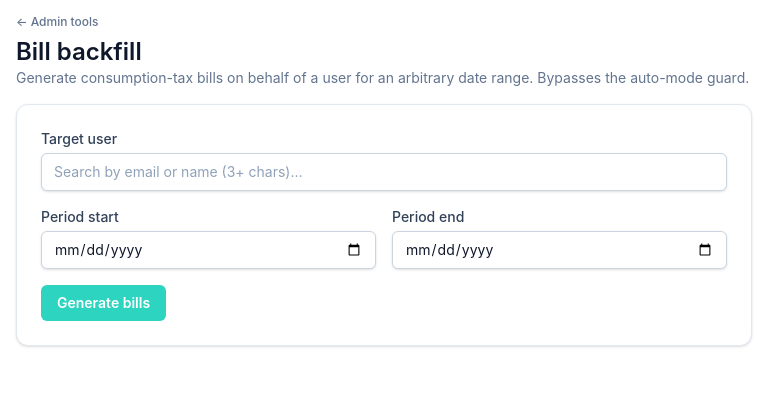
Scenario: AdminBillBackfillPage › rejects an end date that is today or later
The image size is (769, 396).
Type "jane" into the search field named "search target user by email or name" at coordinates (384, 172), box 41,153 -> 727,191
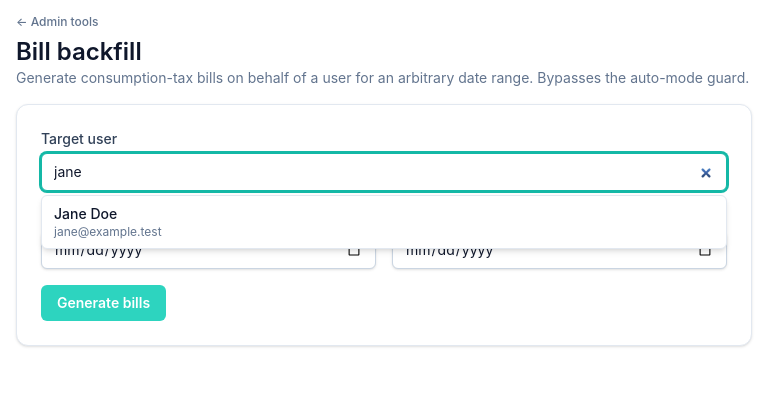
Click the option "Jane Doe jane@example.test" at coordinates (86, 214), box 42,196 -> 726,248
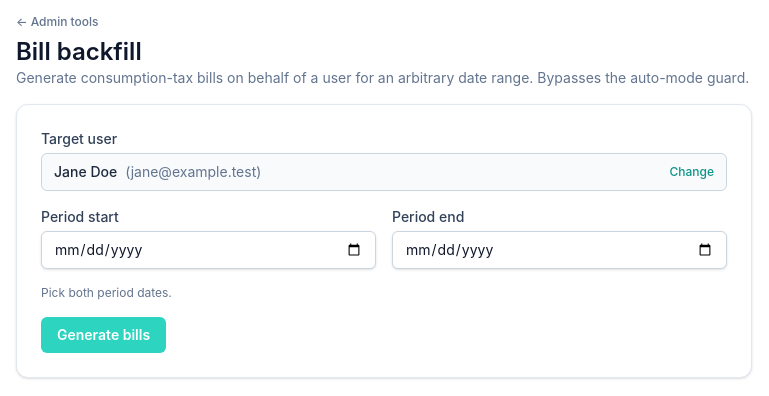
Type "2026-04-01" into the date field labelled "Period start" at coordinates (208, 250), box 41,231 -> 376,269
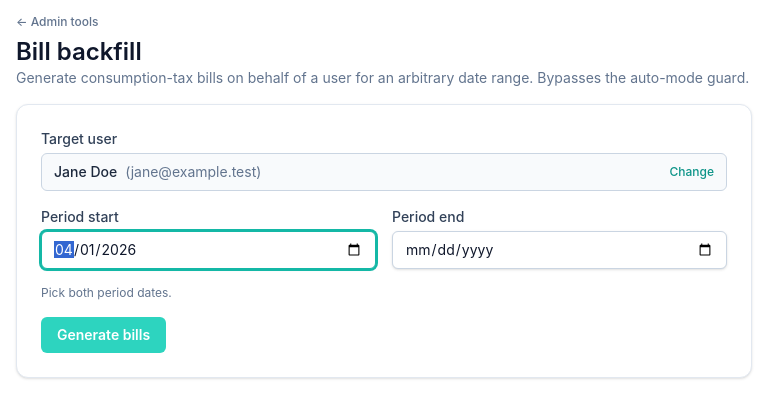
Type "2099-04-08" into the date field labelled "Period end" at coordinates (560, 250), box 392,231 -> 727,269
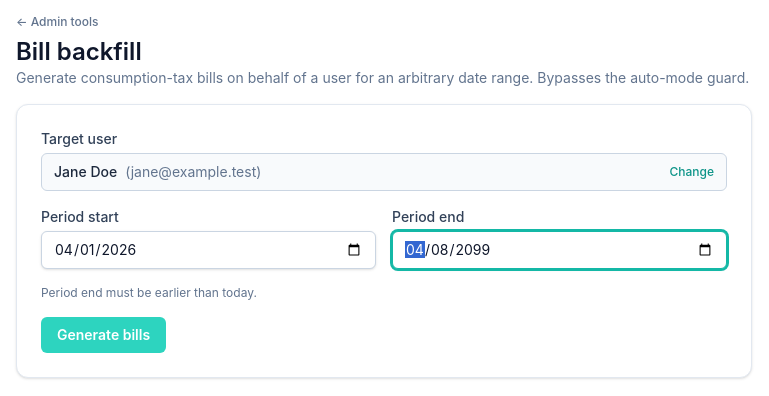
expect the button "Generate bills" is disabled: met, box 41,317 -> 166,353
expect the text "Period end must be earlier than today." is shown: met, box 41,285 -> 257,300
